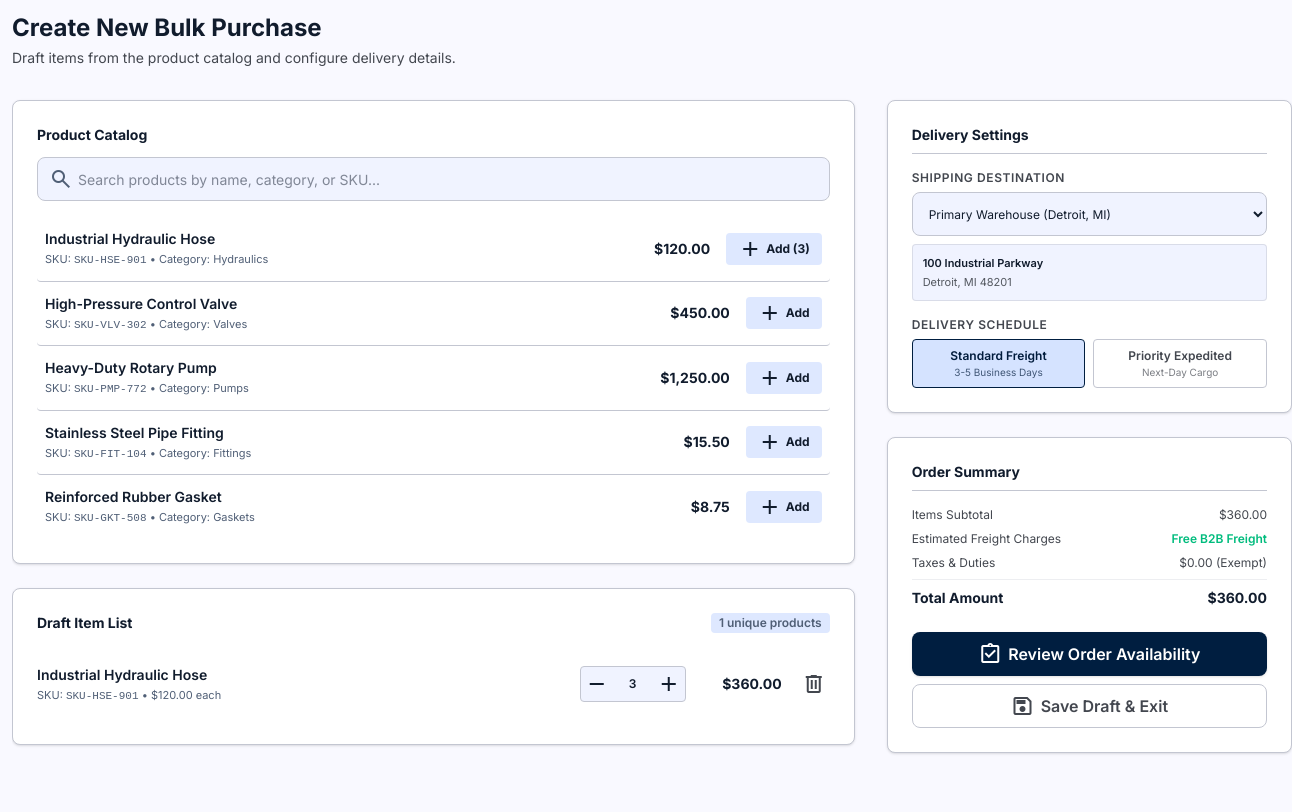
New Order Cart modification › allows searching, adding products, and saving drafts
The image size is (1292, 812).
Expected: the heading "Product Catalog" is shown, [37,126,147,143]
Click the button "Add (3)" at (774, 249), box [726,233,822,265]
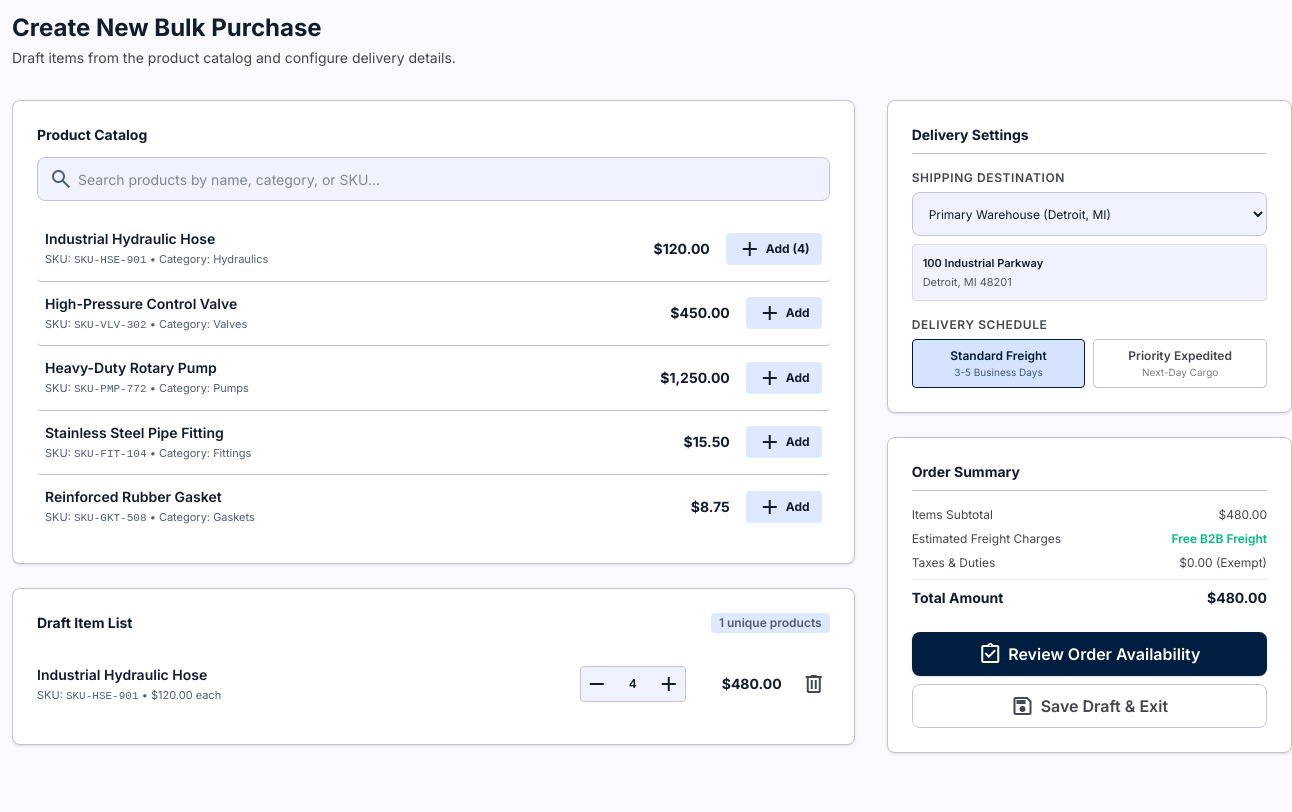
Expected: the heading "Draft Item List" is shown, [37,612,132,632]
Expected: the text "1 unique products" is shown, [711,612,830,632]
Click the button named "Increase quantity" at (669, 684), box [653,667,685,701]
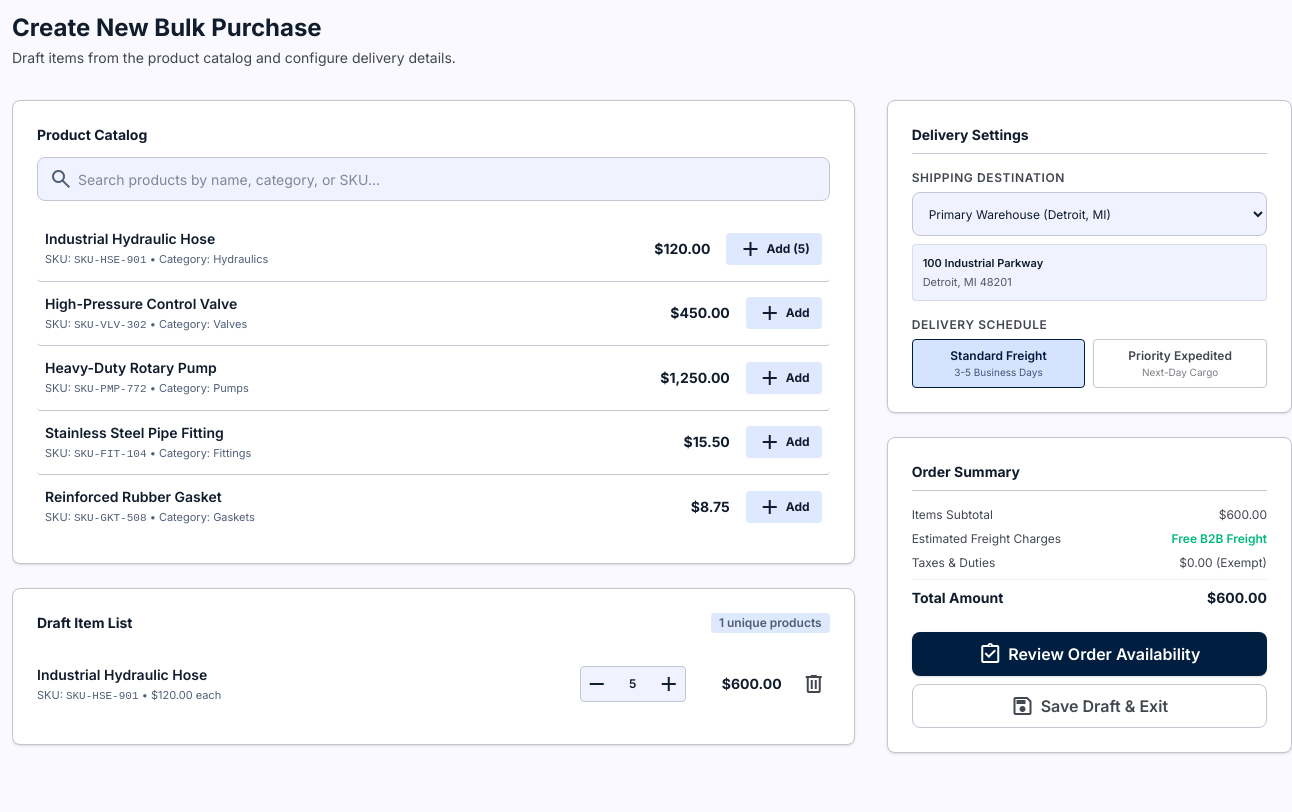
Expected: the text "5" is shown, [629,676,636,691]
